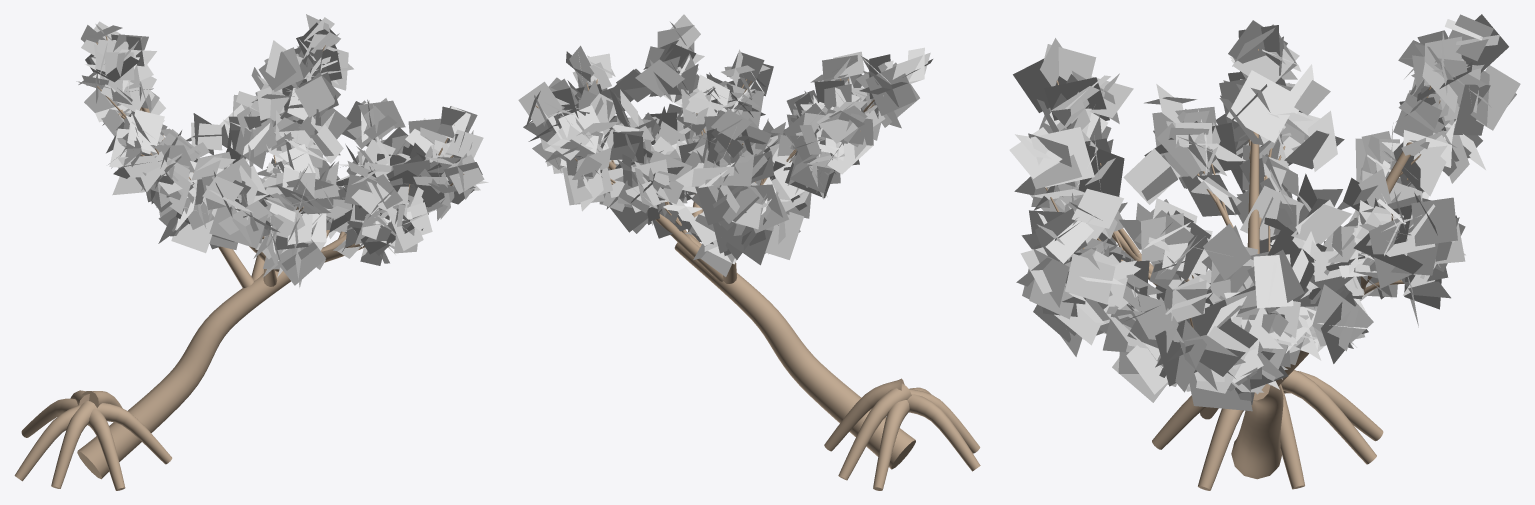
File: drift-bonsai.glb
The picture shows the model from 3 angles, left to right: view 1: azimuth 30°, elevation 25°; view 2: azimuth 150°, elevation 25°; view 3: azimuth 270°, elevation 25°; orthographic projection. The views are drawn at different scales.
Visible parts, largest first — view 1: TreeDrift_canopy, TreeDrift_wood; view 2: TreeDrift_canopy, TreeDrift_wood; view 3: TreeDrift_canopy, TreeDrift_wood.
Part boxes in pixels (bbox=[...]): TreeDrift_canopy: bbox=[76, 14, 488, 287]; TreeDrift_wood: bbox=[14, 36, 464, 490]; TreeDrift_canopy: bbox=[518, 14, 932, 276]; TreeDrift_wood: bbox=[535, 67, 980, 490]; TreeDrift_canopy: bbox=[1009, 14, 1520, 411]; TreeDrift_wood: bbox=[1045, 49, 1464, 490].
Bounding box in the file's own units: 1.21 × 0.9968 × 0.8972.
